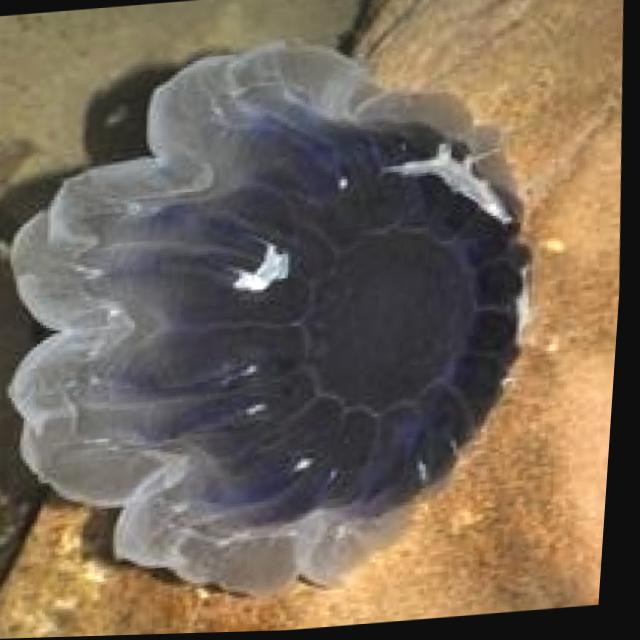Jellyfish: (0, 20, 571, 621)
